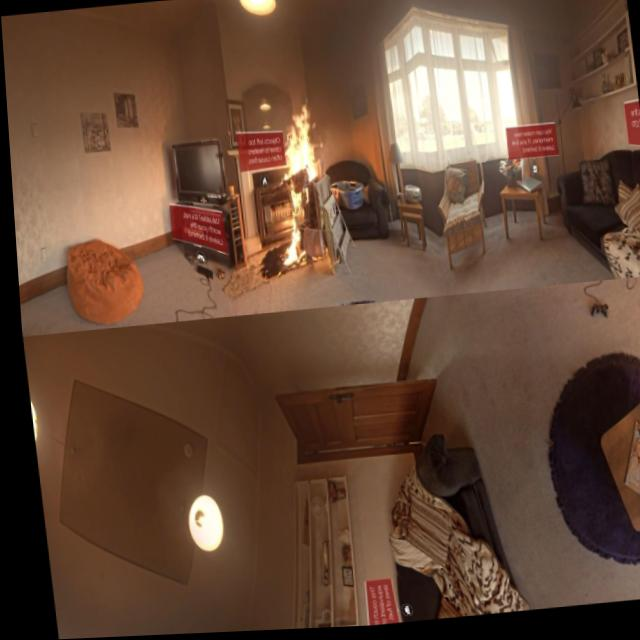fire: (263, 99, 332, 276)
